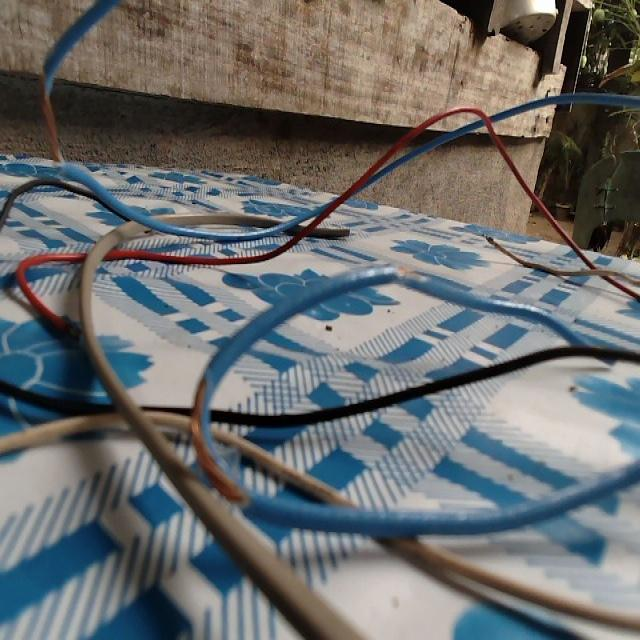-: (189, 371, 252, 509), (62, 319, 82, 345), (481, 227, 499, 249)
